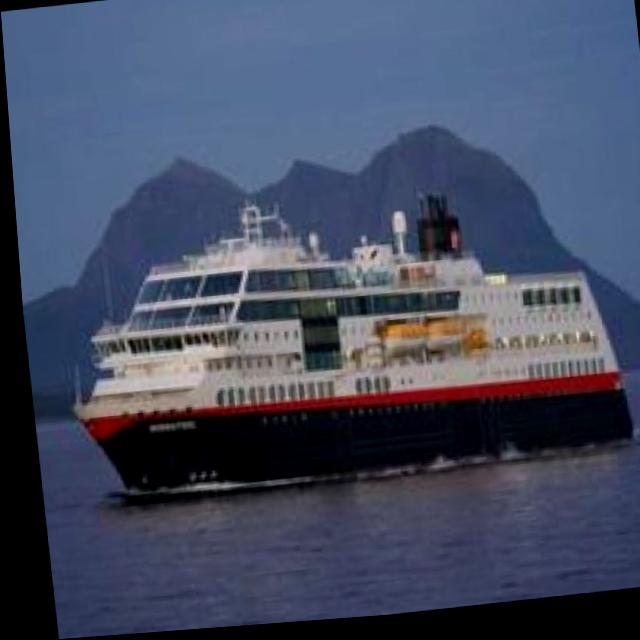ship2: (60, 198, 626, 498)
